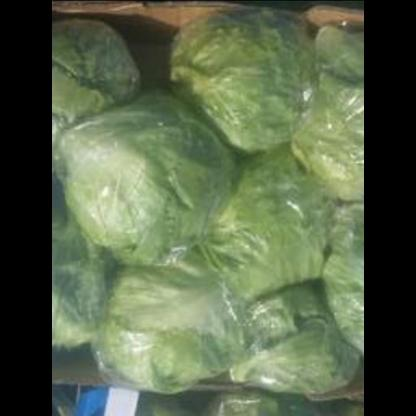salad: (52, 18, 364, 386)
